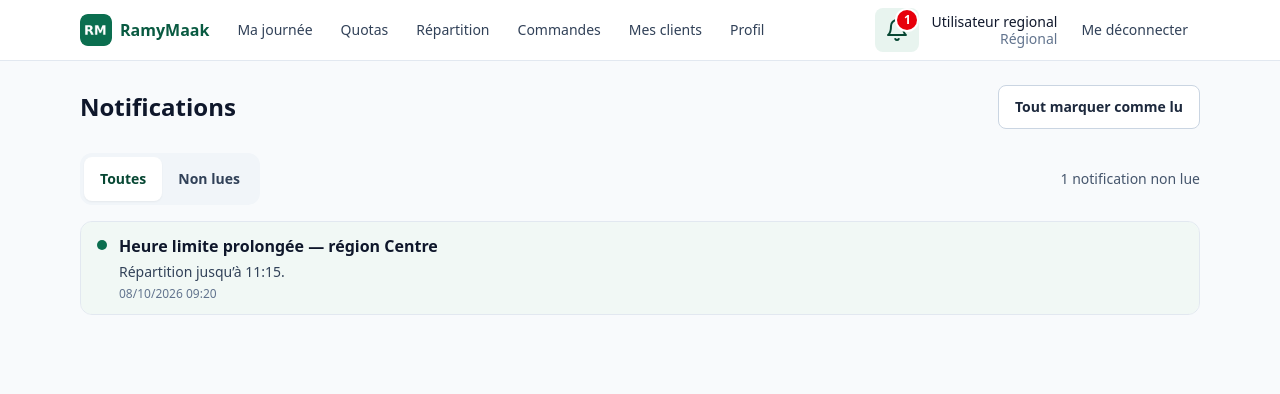
Test: notification centre › restores the notification when marking it read fails
Click the button "Heure limite prolongée — région Centre" at (147, 245), box [81,222,1199,314]
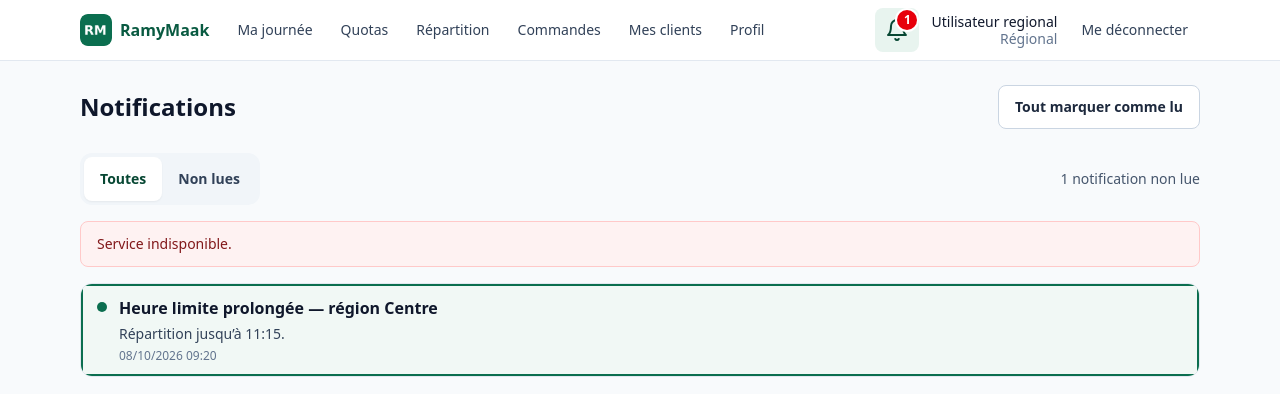
Expected: the text "1 notification non lue" is shown, [1060,169,1200,189]
Result: the text "Service indisponible." is shown at [80,221,1200,267]
